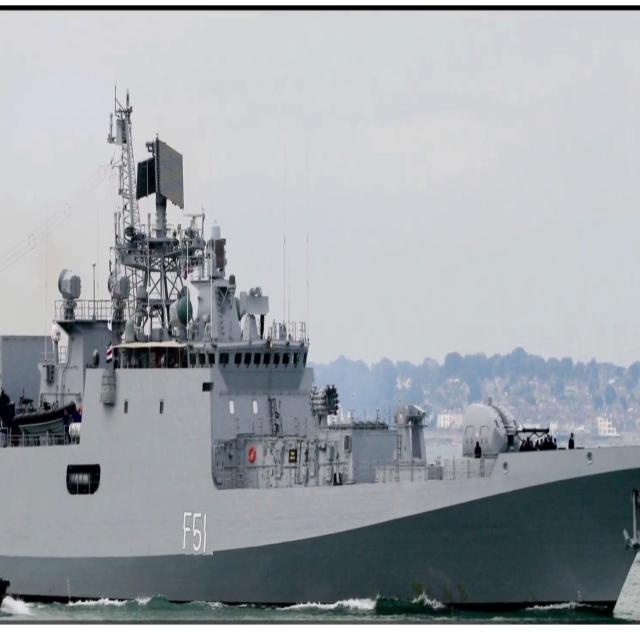OCR: (179, 506, 213, 558)
